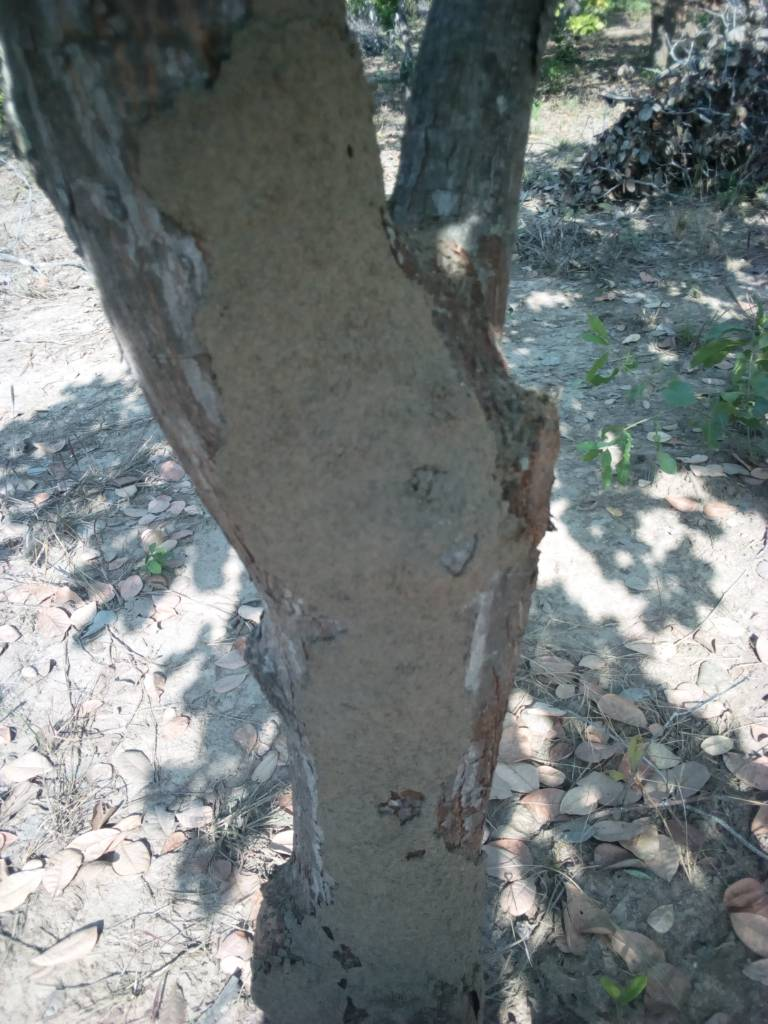Virose: (138, 26, 532, 677), (230, 682, 513, 1024)
